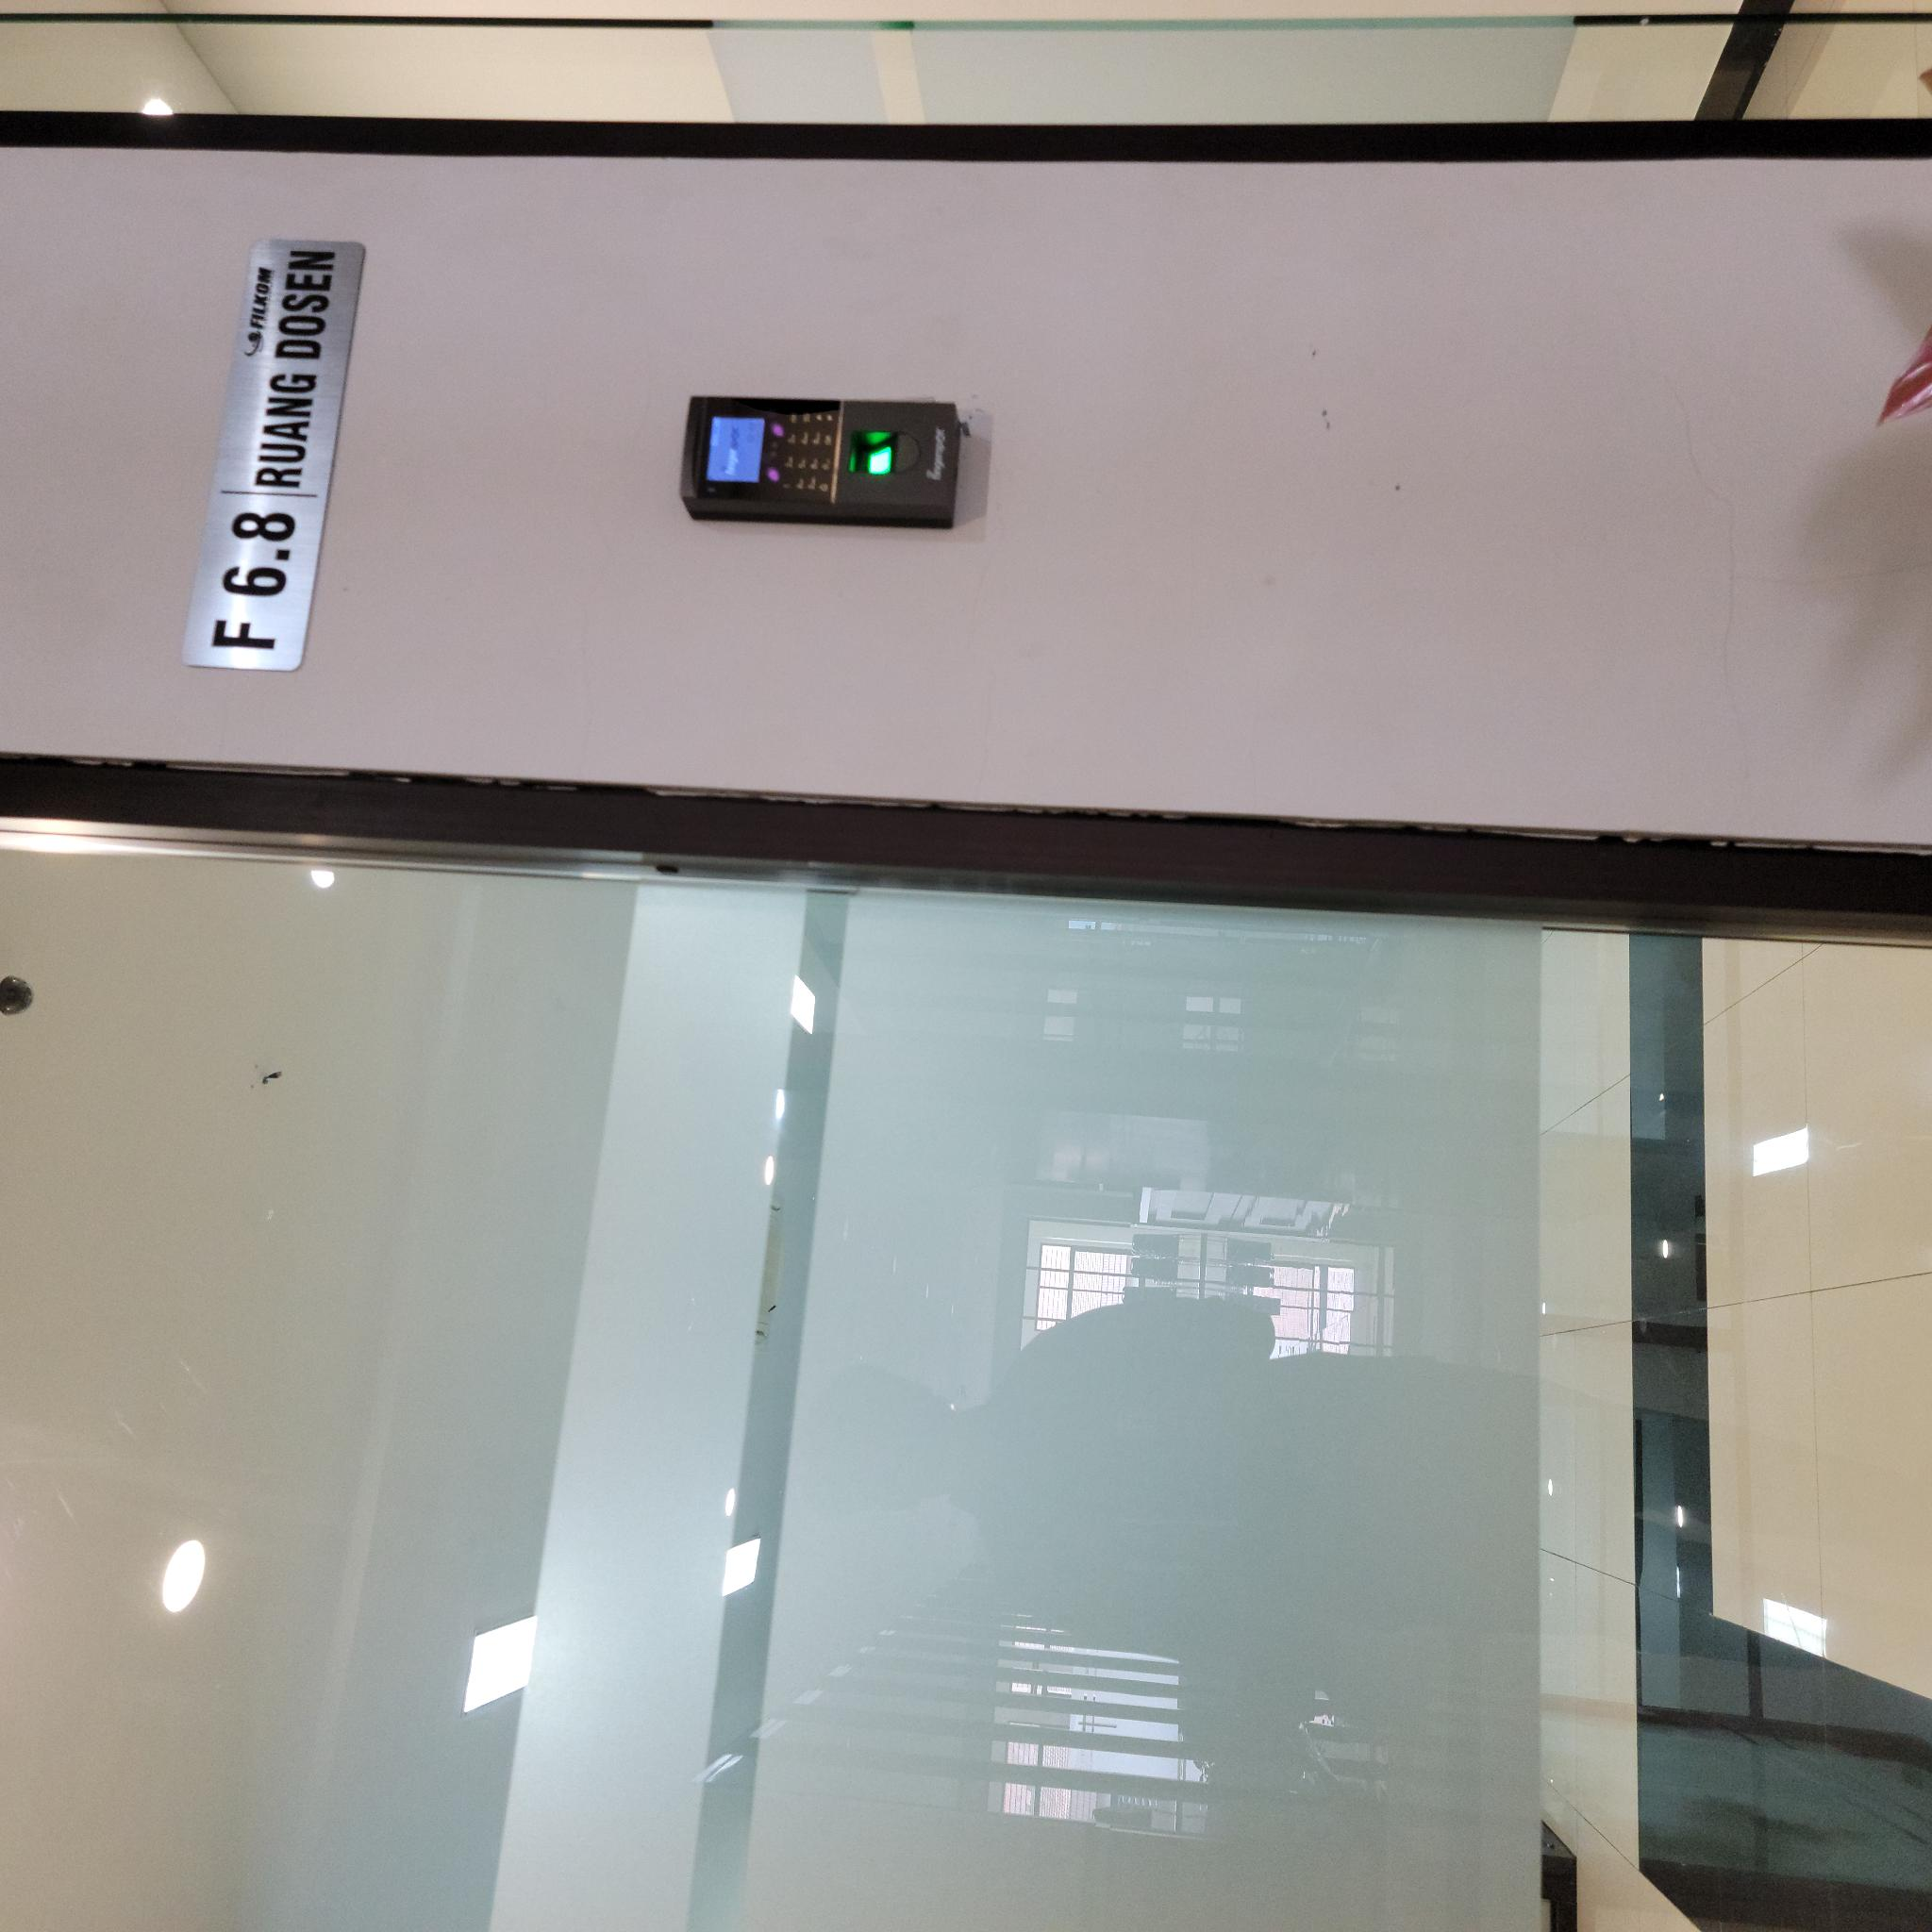plate: (1261, 179, 1695, 368)
